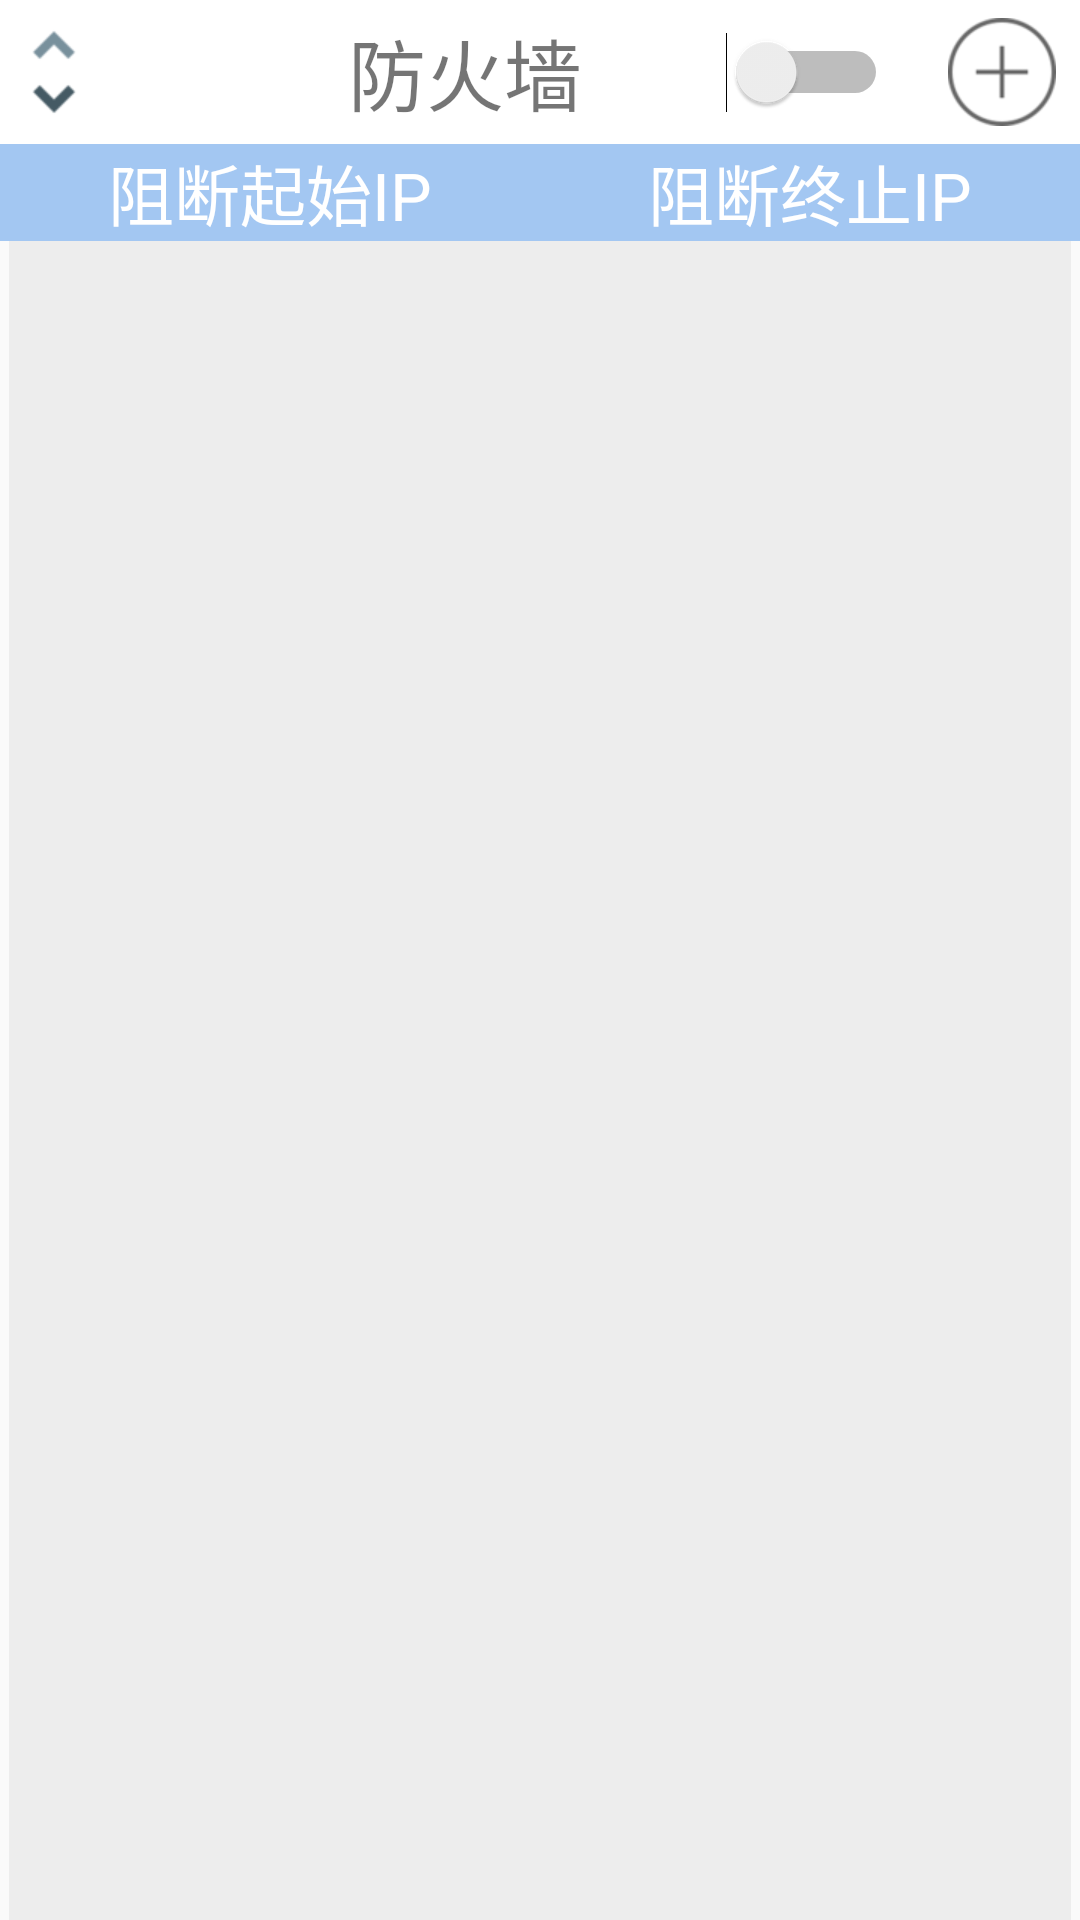

Where icons sit on this 1080 x 1920 app screen, as [x1=x1, y1=y1, x2=x2, y2=y2]:
plus: [x1=948, y1=18, x2=1056, y2=126]
unfold more: [x1=33, y1=31, x2=75, y2=113]
